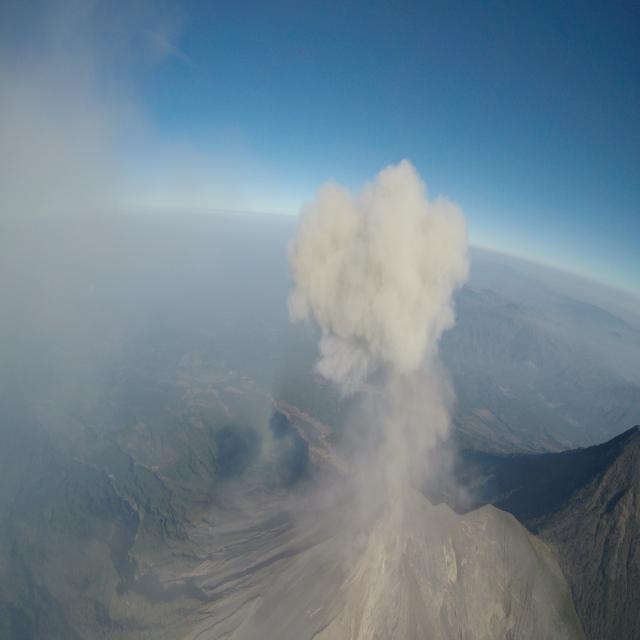Plume: (0, 66, 178, 506), (284, 157, 478, 392)
